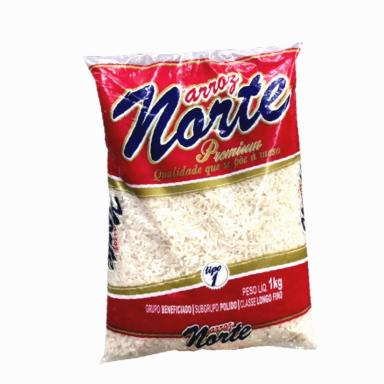rice package: (85, 45, 314, 360)
